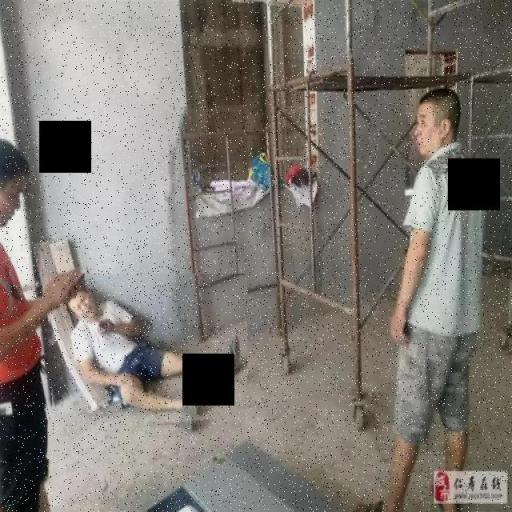Fall: (48, 274, 247, 435)
